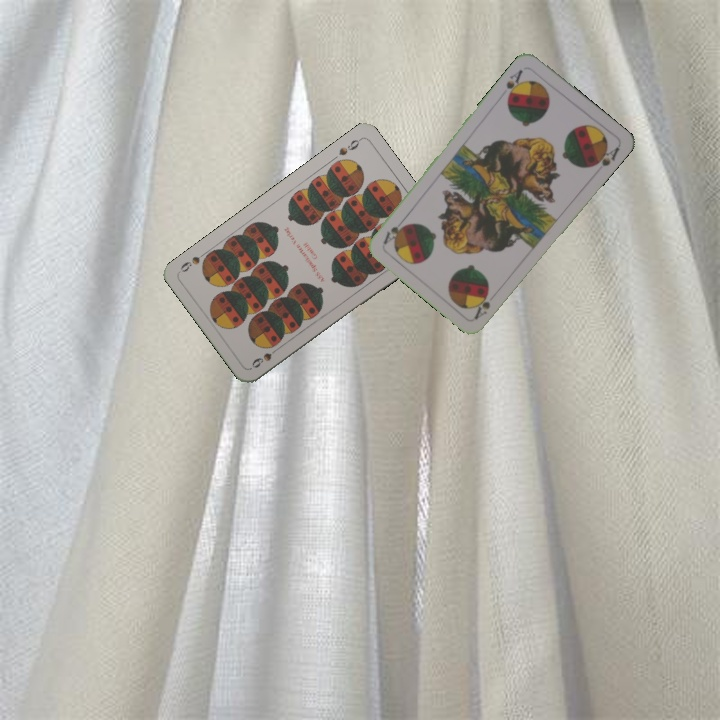S9: (247, 343, 283, 371), (335, 134, 364, 158)
SA: (470, 287, 500, 322), (502, 65, 526, 102)
